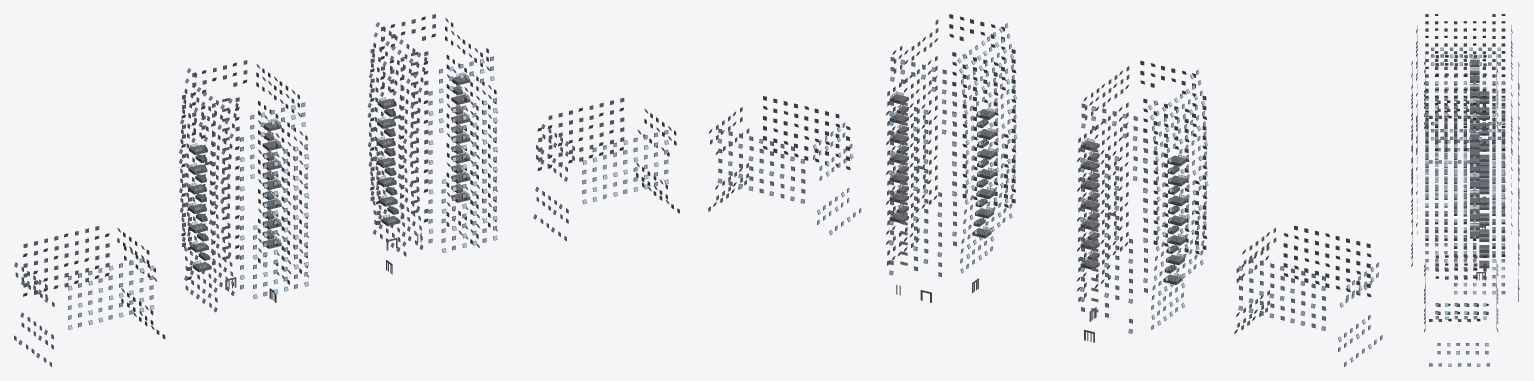
Rendered from building6.glb.
3 renders of one model, left to right at view 1: azimuth 30°, elevation 25°; view 2: azimuth 150°, elevation 25°; view 3: azimuth 270°, elevation 25°, orthographic. The views are drawn at different scales.
Bounding box in the file's own units: 9.17 × 3.31 × 1.68.
